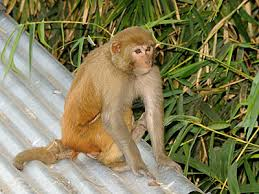monkey: (61, 21, 192, 179)
